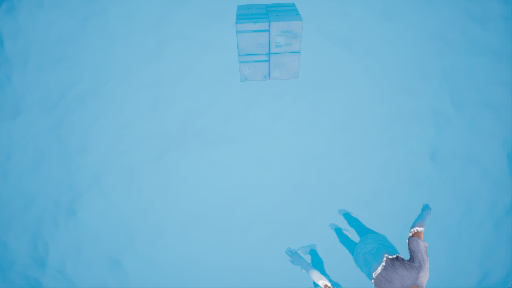person: (327, 200, 440, 288)
